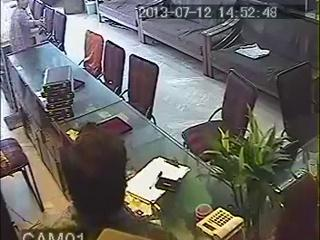Normal: (10, 0, 46, 52)
